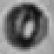correct: (0, 0, 48, 44)
